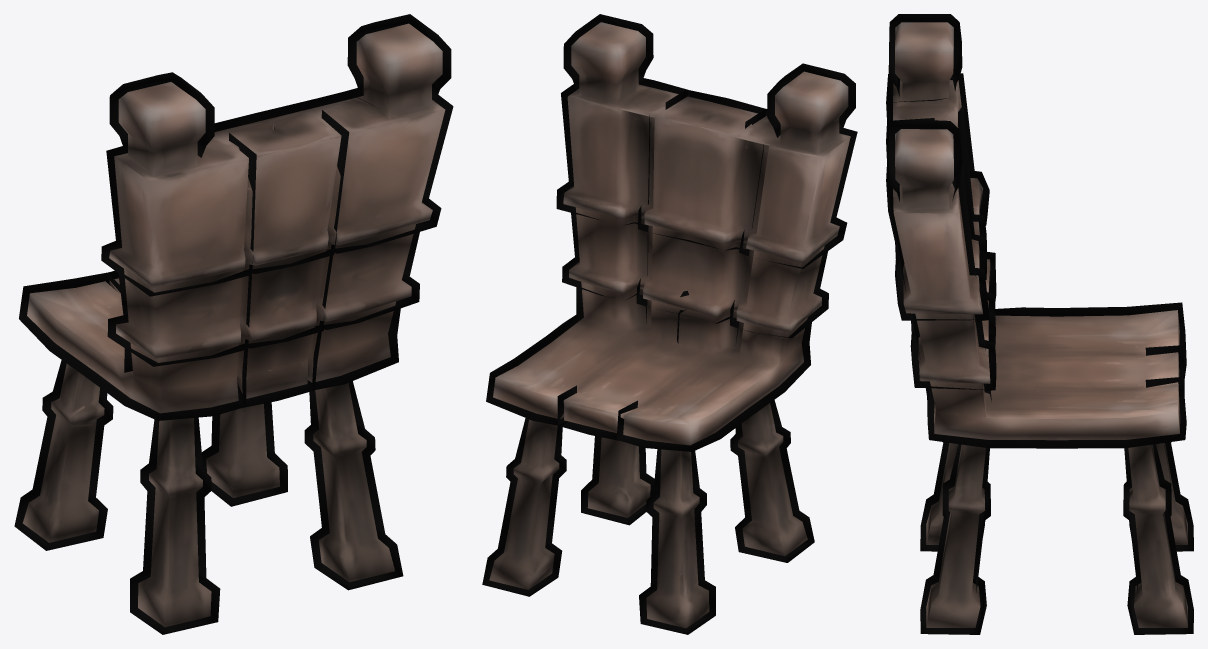
File: AN_krzeslo_anim_lew_praw.glb
The picture shows the model from 3 angles, left to right: view 1: azimuth 30°, elevation 25°; view 2: azimuth 150°, elevation 25°; view 3: azimuth 270°, elevation 25°; orthographic projection. The views are drawn at different scales.
Visible parts, largest first — view 1: krzeslo; view 2: krzeslo; view 3: krzeslo.
Boxes of the visible parts, x1,y1,x2,y2 form: krzeslo: (14,14,453,634); krzeslo: (482,14,857,634); krzeslo: (886,14,1193,634).
Bounding box in the file's own units: 0.7365 × 1.26 × 0.6943.
2 materials, 1 textured.
